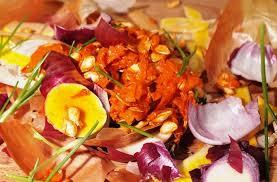Organic: (2, 1, 277, 182)
